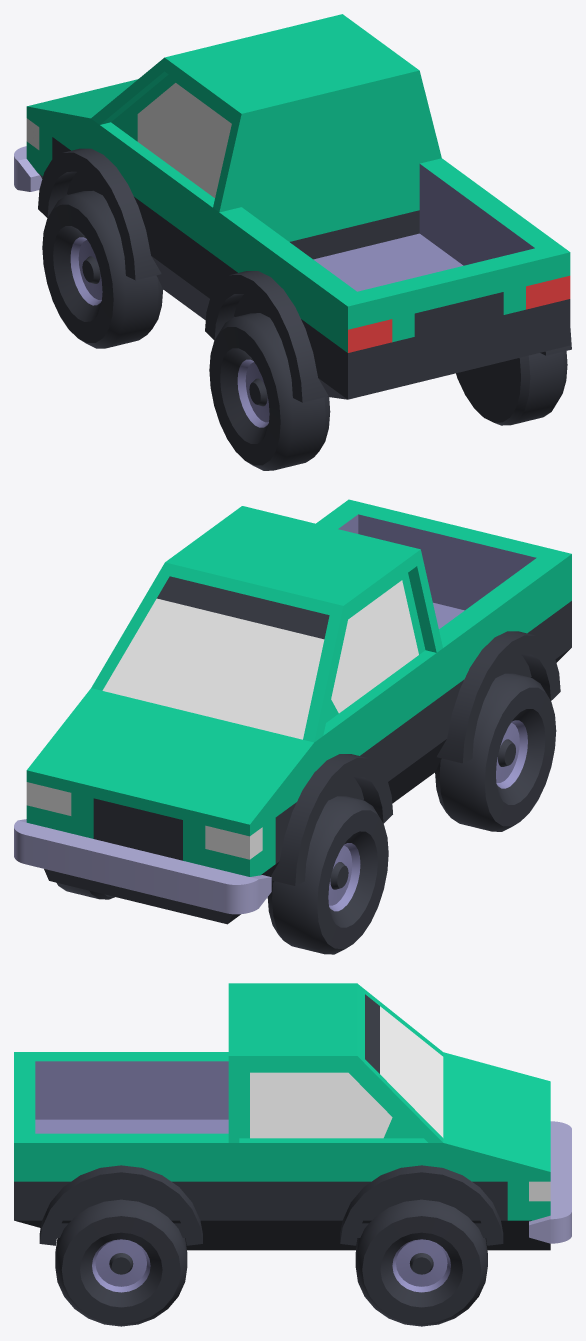
File: car01.glb
3 renders of one model, top to bottom at view 1: azimuth 30°, elevation 25°; view 2: azimuth 150°, elevation 25°; view 3: azimuth 270°, elevation 25°, orthographic. The views are drawn at different scales.
Visible parts, largest first — view 1: mergedBlocks(Clone); view 2: mergedBlocks(Clone); view 3: mergedBlocks(Clone).
Part boxes in pixels (x1,y1,x2,y2): mergedBlocks(Clone): [14, 14, 571, 470]; mergedBlocks(Clone): [14, 499, 571, 954]; mergedBlocks(Clone): [14, 983, 571, 1326].
Size of the model in its own units: 1.23 by 1.31 by 2.6.
